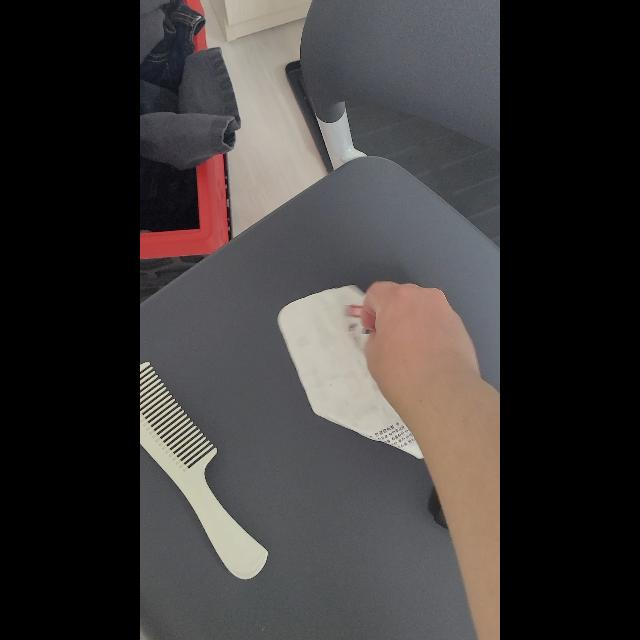COMB: (140, 362, 268, 580)
Glasses cleaning cloth: (277, 285, 423, 459)
